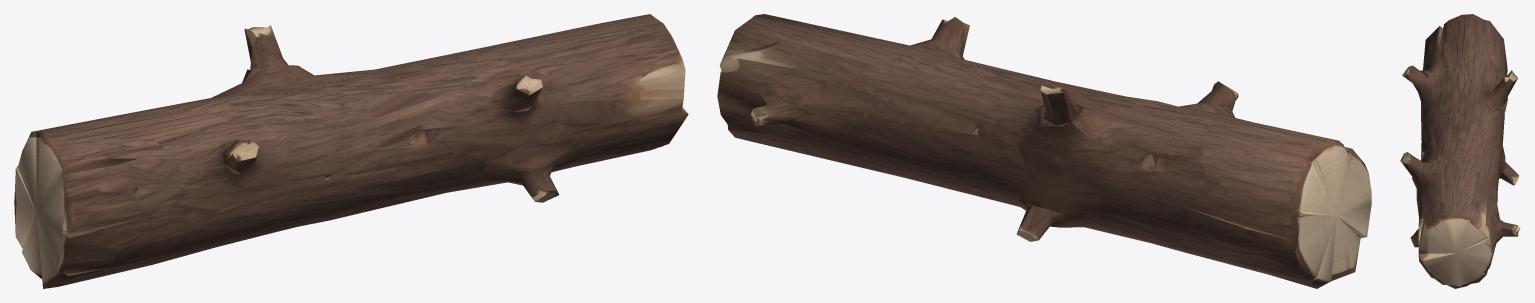
File: Log.glb
The picture shows the model from 3 angles, left to right: view 1: azimuth 30°, elevation 25°; view 2: azimuth 150°, elevation 25°; view 3: azimuth 270°, elevation 25°; orthographic projection. The views are drawn at different scales.
Visible parts, largest first — view 1: Log; view 2: Log; view 3: Log.
Part boxes in pixels (x1,y1,x2,y2): Log: (14,14,688,288); Log: (717,14,1371,288); Log: (1400,14,1520,288).
Bounding box in the file's own units: 1.7 × 0.45 × 0.45.
Materials: 1 (1 with a texture image).
